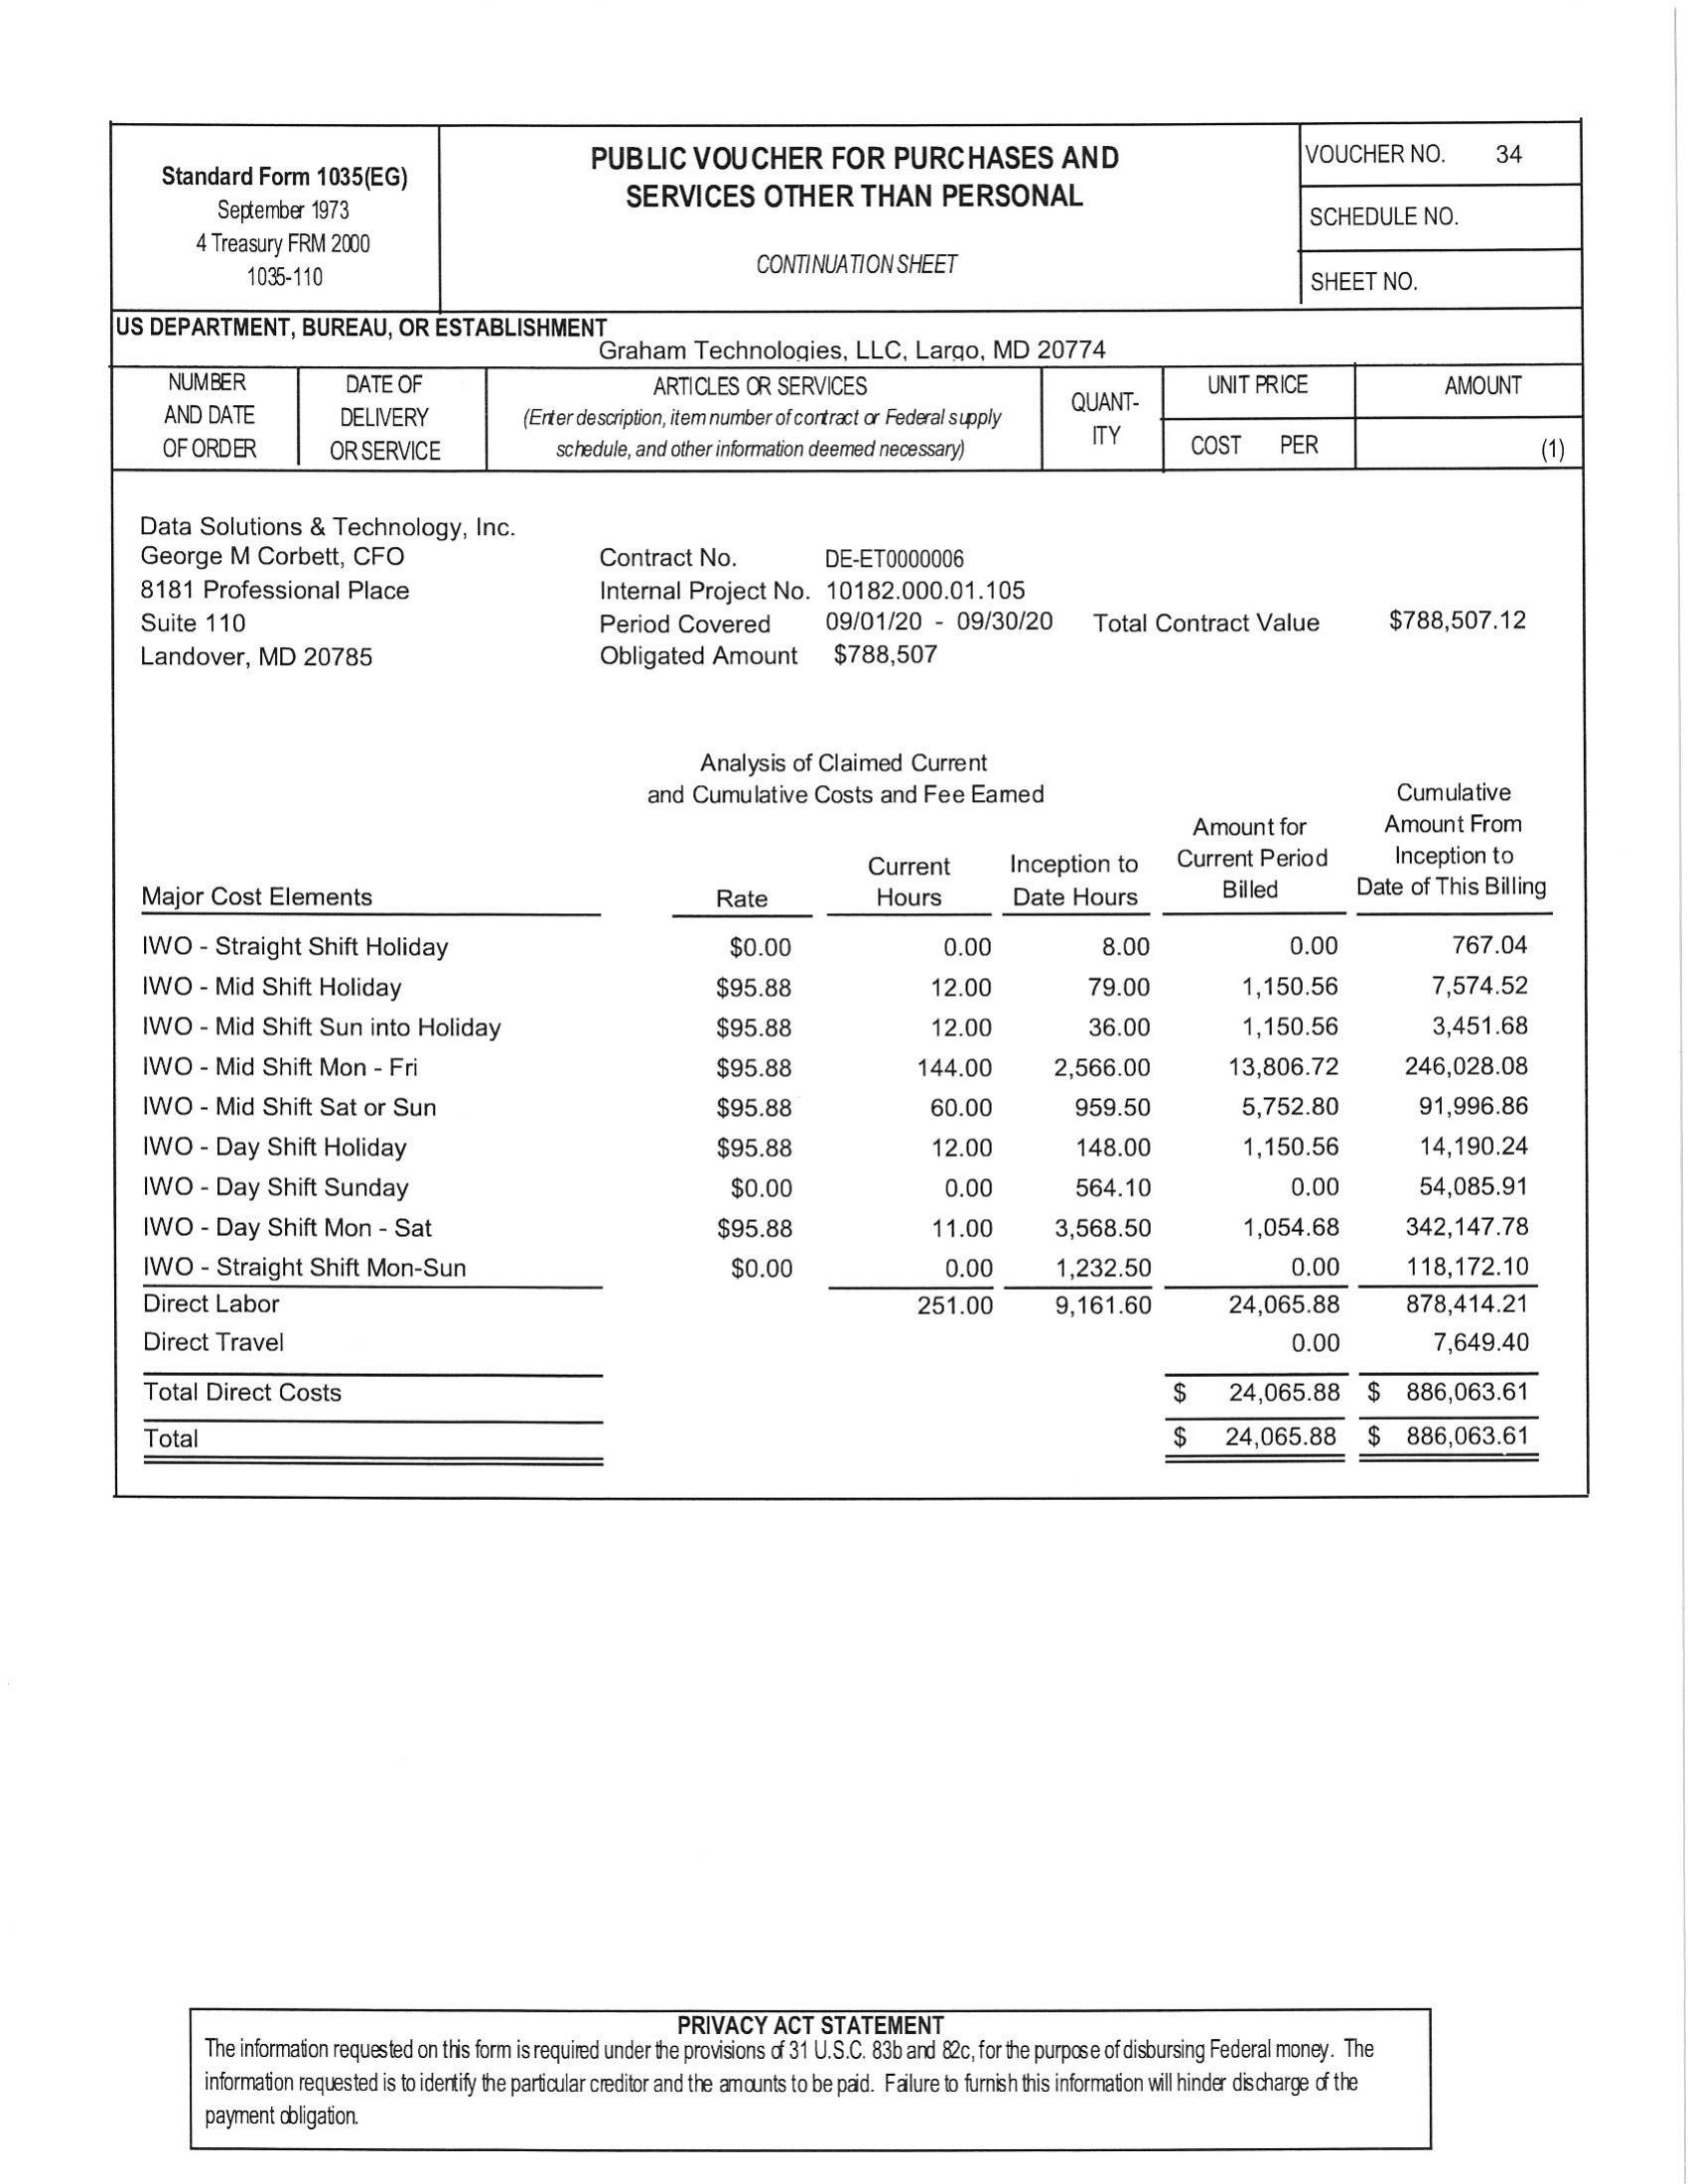table: (90, 771, 1592, 1491)
